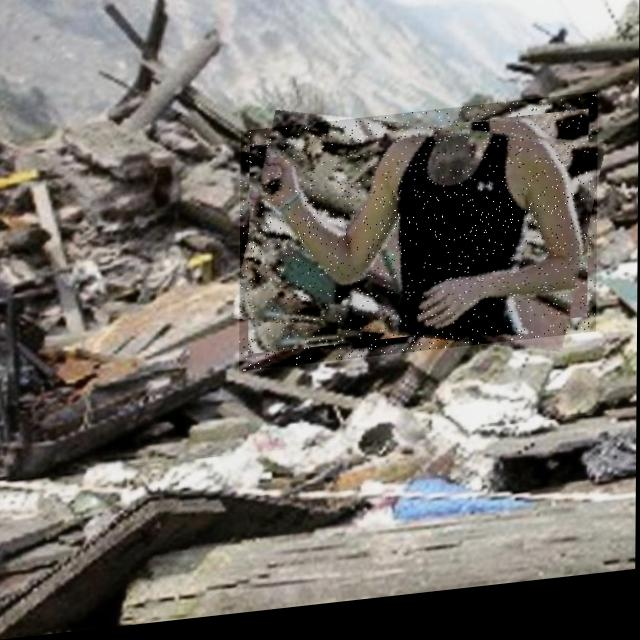Person in Rubble: (240, 106, 598, 377)
